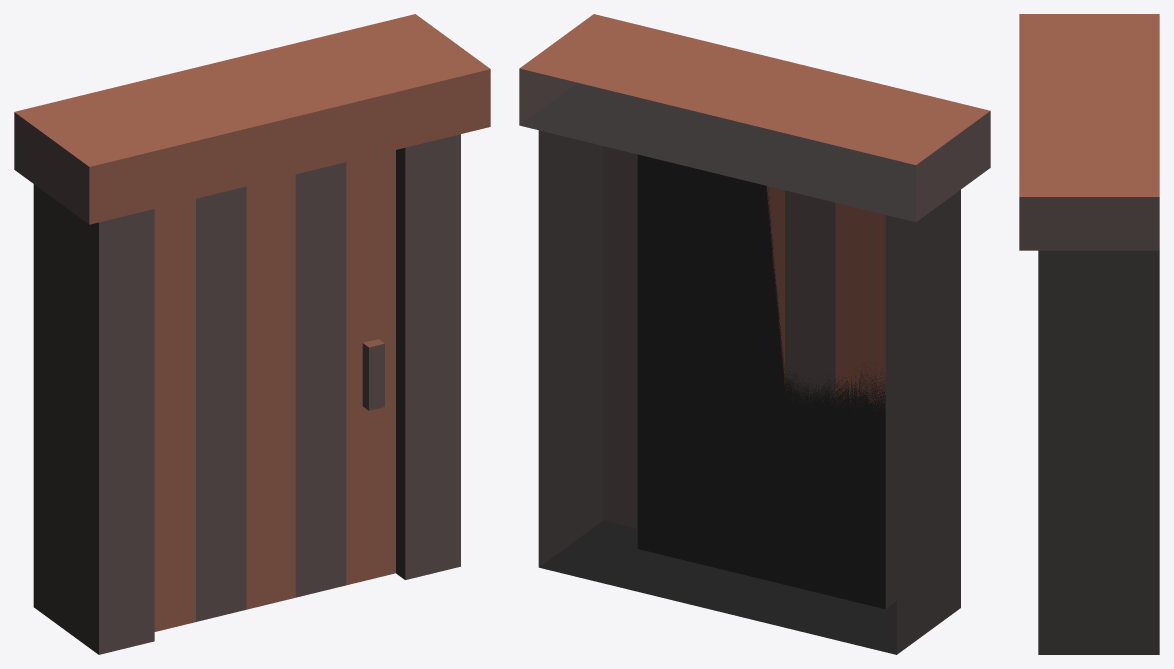
Rendered from TB_D_Bd_SRoof_DoorSet_B.FBX.
The picture shows the model from 3 angles, left to right: view 1: azimuth 30°, elevation 25°; view 2: azimuth 150°, elevation 25°; view 3: azimuth 270°, elevation 25°; orthographic projection. The views are drawn at different scales.
Visible parts, largest first — view 1: TB_D_Bd_SRoof_DoorSet_B, TB_D_Bd_SRoof_Door_B; view 2: TB_D_Bd_SRoof_DoorSet_B, TB_D_Bd_SRoof_Door_B; view 3: TB_D_Bd_SRoof_DoorSet_B.
Part boxes in pixels (x1,y1,x2,y2): TB_D_Bd_SRoof_DoorSet_B: [14, 14, 490, 654]; TB_D_Bd_SRoof_Door_B: [154, 150, 395, 631]; TB_D_Bd_SRoof_DoorSet_B: [519, 14, 990, 654]; TB_D_Bd_SRoof_Door_B: [766, 186, 885, 412]; TB_D_Bd_SRoof_DoorSet_B: [1019, 14, 1159, 654].
Size of the model in its own units: 1.44 by 1.71 by 0.4679.
